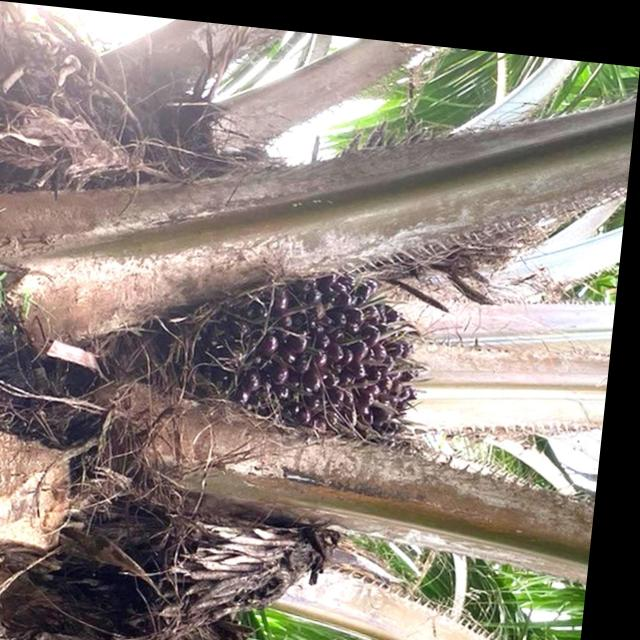ripe: (185, 250, 434, 427)
